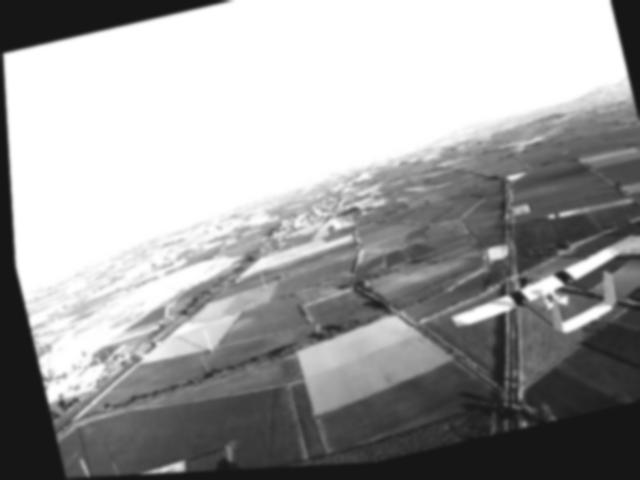hedef: (433, 237, 638, 379)
